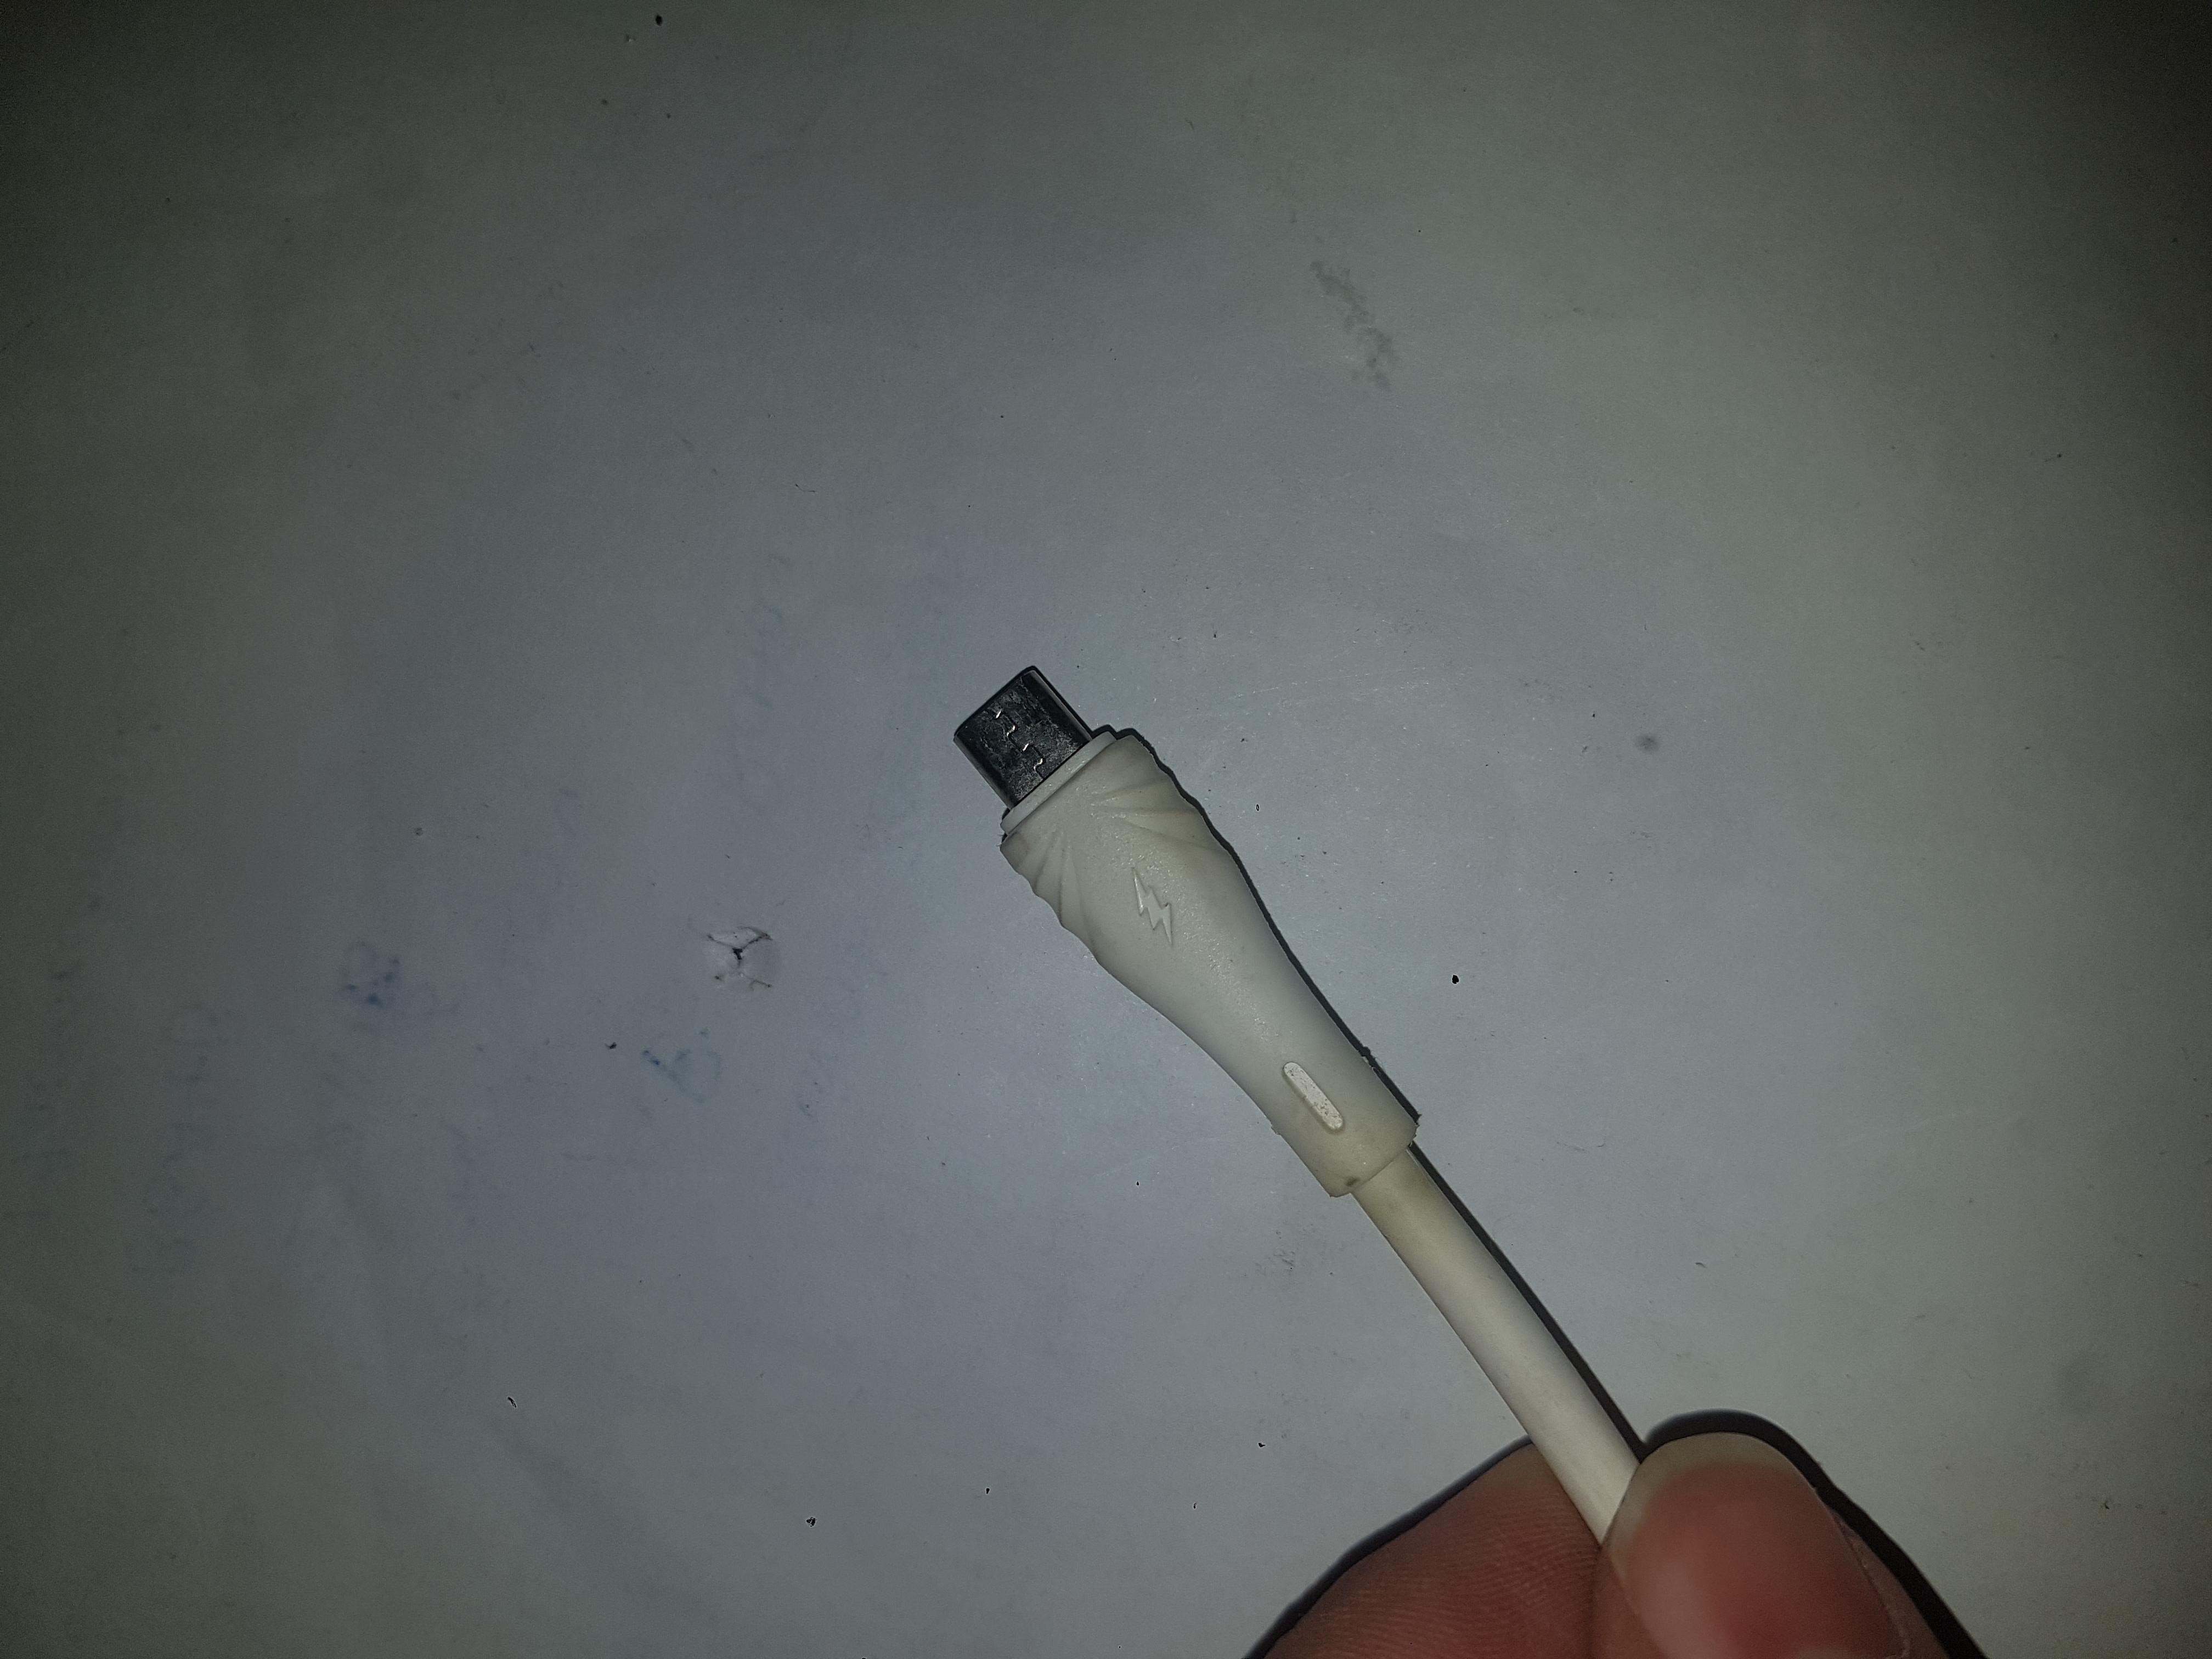electronic: (466, 87, 1270, 1019)
